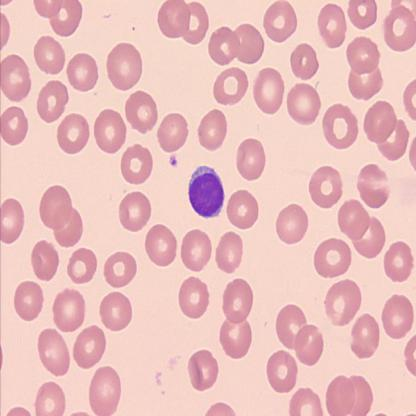Lymphocyte: (187, 164, 226, 218)
